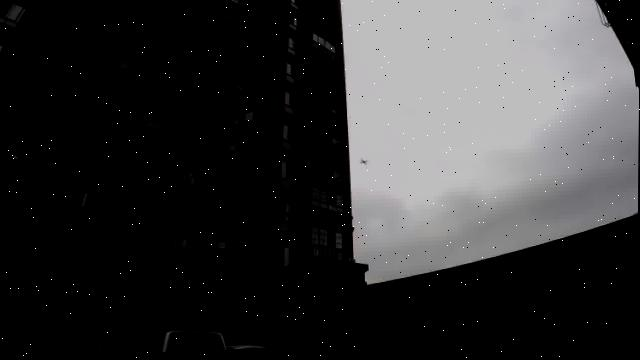drone: (357, 161, 368, 170)
